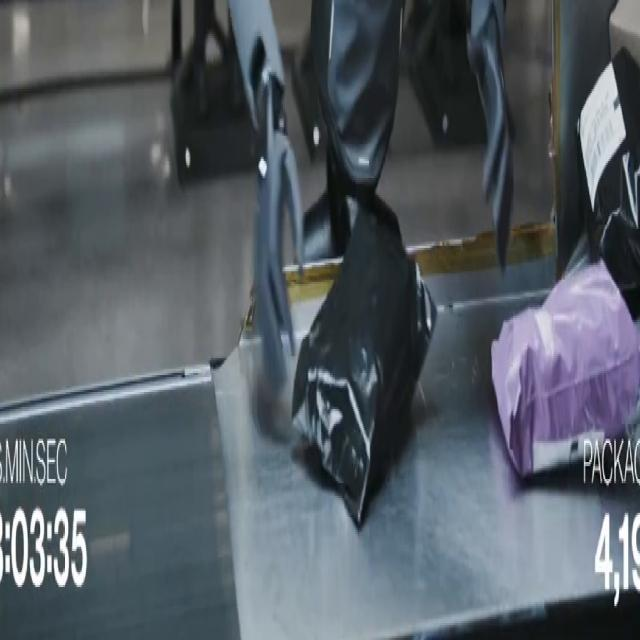package: (292, 212, 436, 527), (492, 261, 639, 476), (577, 49, 639, 260), (600, 153, 639, 317), (610, 0, 639, 65), (626, 395, 639, 468)
